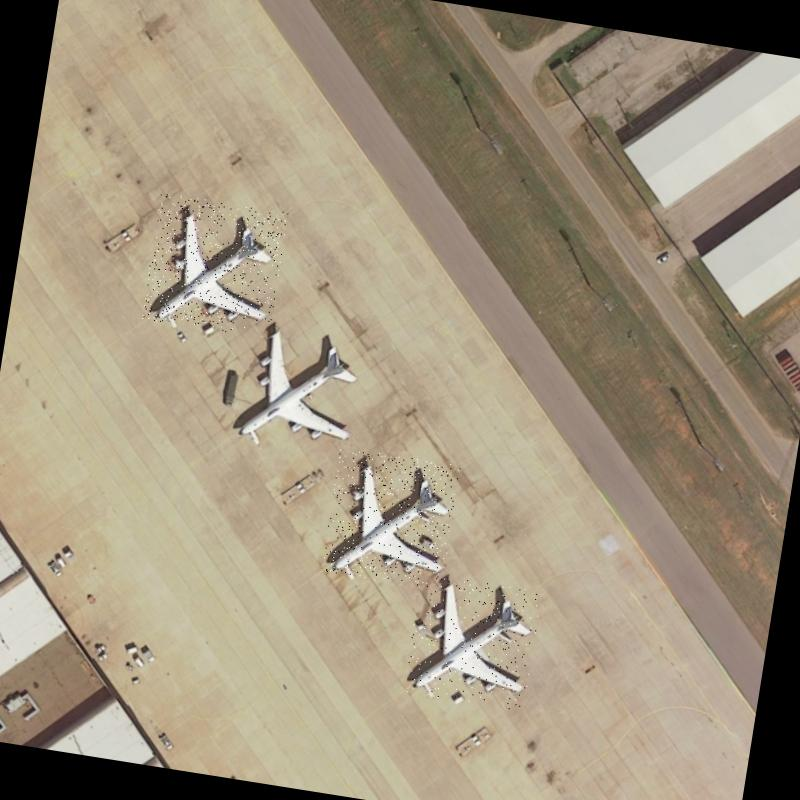A11: (141, 192, 288, 339), (320, 446, 460, 591), (228, 320, 370, 459), (402, 572, 542, 712)
